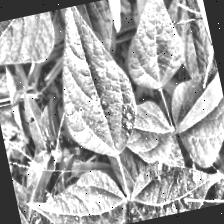Bean Rust: (37, 0, 143, 164), (119, 148, 222, 222), (21, 161, 133, 224), (201, 157, 224, 206)
